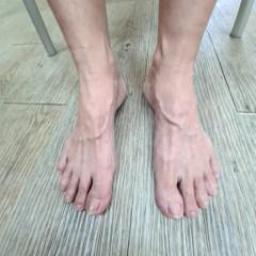Dorsal View -Both Feet-: (34, 39, 250, 238)
